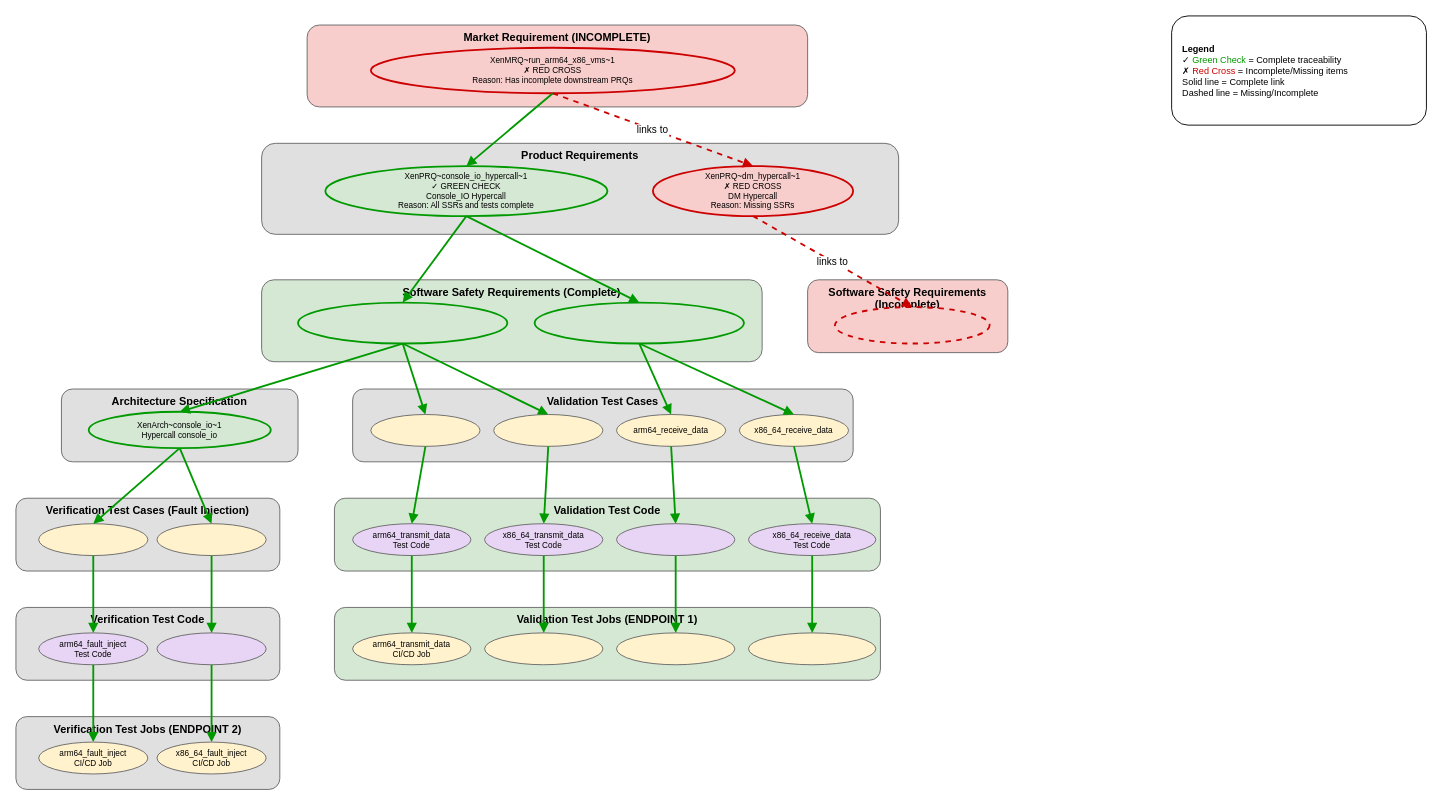
Image size: 1442x805. Some labels were removed from this diagram. The centre of each missing label's shape, as x and y in pixels:
"arm64_fault_inject console_io_write" goes at (x=93, y=539).
"arm64_receive_data CI/CD Job" goes at (x=675, y=648).
"arm64_receive_data Test Code" goes at (x=675, y=539).
"arm64_transmit_data" goes at (x=425, y=430).
"Missing SSRs ✗ Incomplete" goes at (x=912, y=325).
"x86_64_fault_inject console_io_write" goes at (x=211, y=539).
"x86_64_fault_inject Test Code" goes at (x=211, y=648).
"x86_64_receive_data CI/CD Job" goes at (x=812, y=648).
"x86_64_transmit_data" goes at (x=548, y=430).
"x86_64_transmit_data CI/CD Job" goes at (x=543, y=648).
"XenSSR~receive_data_hyp_console_io~1 ✓ Receive data from console" goes at (x=638, y=322).
"XenSSR~transmit_data_hyp_console_io~1 ✓ Transmit data to console" goes at (x=402, y=322).
